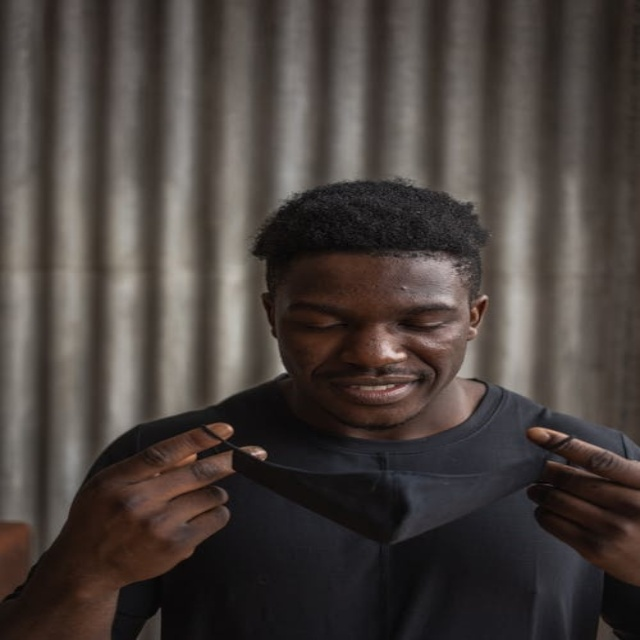Sin_gafas: (279, 295, 460, 345)
Sin_guantes: (25, 420, 258, 592), (522, 420, 637, 589)
Sin_mascara: (312, 365, 425, 425)
